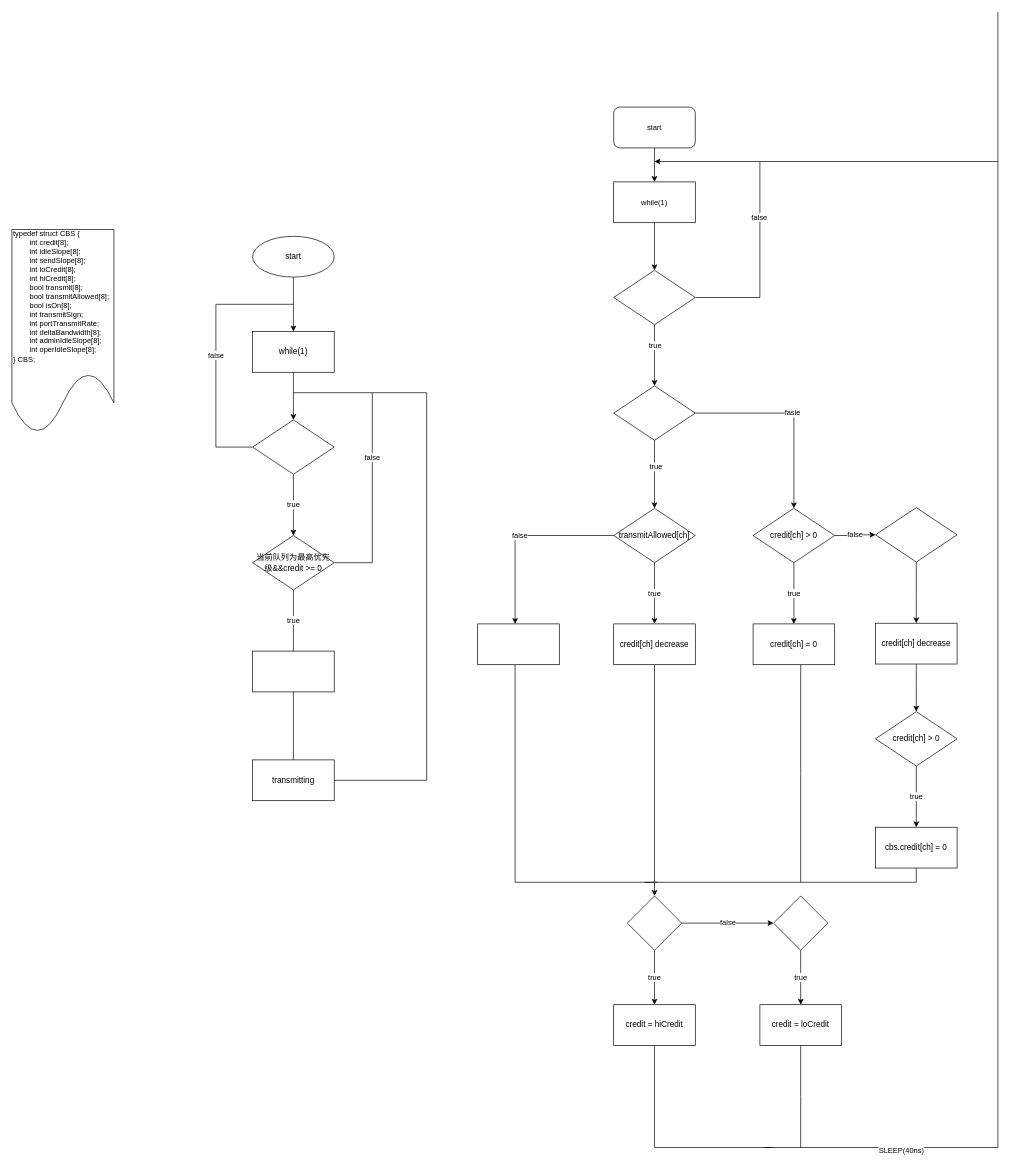
This 1010x1167 diagram has some shape labels left out. The centre of each missing label's shape, as x and y in pixels:
"credit[ch] < 0" goes at point (916, 534).
"credit[ch] < loCredit[ch]" goes at point (800, 922).
"credit[ch] > hiCredit[ch]" goes at point (654, 922).
"credit[ch] increase" goes at point (518, 644).
"s->cbs.isOn" goes at point (654, 297).
"s->cbs.transmit[chan]" goes at point (293, 446).
"s->cbs.transmitAllowed [ch]=true" goes at point (293, 671).
"s->transmit[ch]" goes at point (654, 412).
